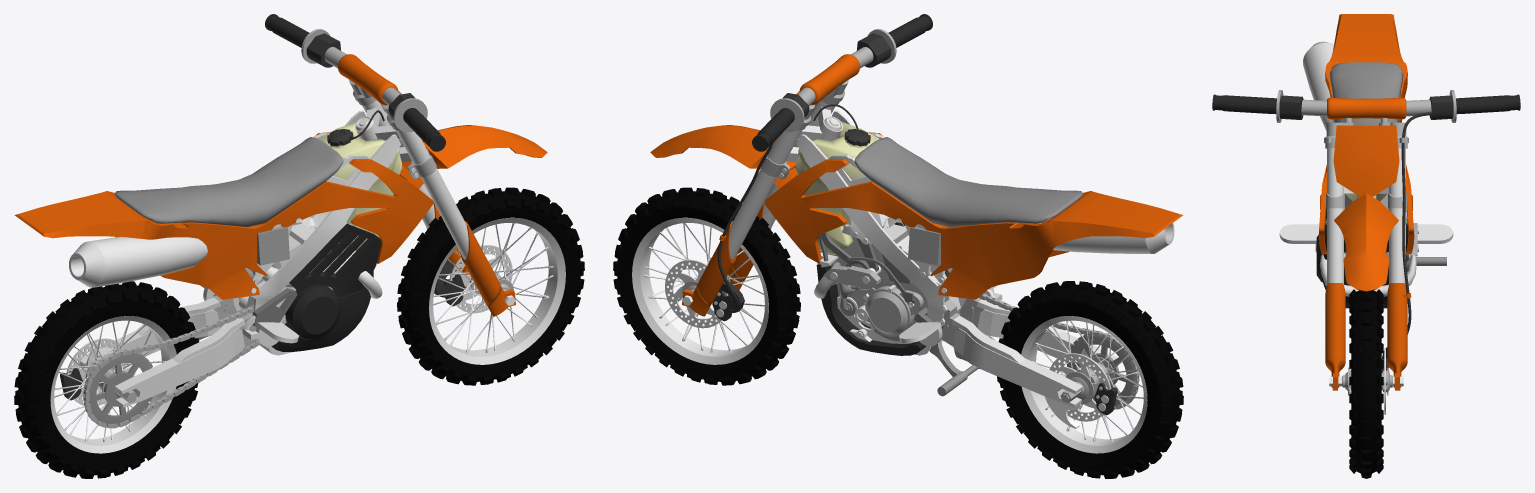
The model's file is moto.glb.
3 renders of one model, left to right at view 1: azimuth 30°, elevation 25°; view 2: azimuth 150°, elevation 25°; view 3: azimuth 270°, elevation 25°, orthographic. The views are drawn at different scales.
Visible parts, largest first — view 1: Object_101, wheel_f, wheel_r, Object_27, Object_33, Object_71, Object_73, Object_89, Object_31, Object_14, Object_4, Object_85 (+8 smaller); view 2: Object_101, wheel_f, wheel_r, Object_27, Object_33, Object_73, Object_31, Object_14, Object_4, Object_85, Object_67, Object_89 (+13 smaller); view 3: Object_101, wheel_f, Object_33, Object_14, Object_27, Object_22, Object_73, Object_89, Object_25, Object_23, Object_16, Object_20 (+3 smaller).
Part boxes in pixels (bbox=[...]): Object_101: bbox=[14, 54, 547, 299]; wheel_f: bbox=[404, 194, 581, 383]; wheel_r: bbox=[21, 287, 204, 476]; Object_27: bbox=[115, 137, 343, 226]; Object_33: bbox=[14, 187, 584, 478]; Object_71: bbox=[271, 223, 380, 351]; Object_73: bbox=[200, 110, 400, 355]; Object_89: bbox=[69, 236, 355, 287]; Object_31: bbox=[81, 297, 245, 407]; Object_14: bbox=[355, 100, 468, 259]; Object_4: bbox=[50, 316, 176, 453]; Object_85: bbox=[318, 121, 402, 250]; Object_101: bbox=[650, 54, 1183, 299]; wheel_f: bbox=[616, 194, 793, 383]; wheel_r: bbox=[999, 287, 1176, 476]; Object_27: bbox=[854, 137, 1082, 226]; Object_33: bbox=[613, 187, 1183, 478]; Object_73: bbox=[797, 110, 1002, 355]; Object_31: bbox=[952, 299, 1117, 407]; Object_14: bbox=[729, 100, 842, 259]; Object_4: bbox=[1021, 316, 1147, 453]; Object_85: bbox=[795, 121, 888, 254]; Object_67: bbox=[865, 286, 923, 336]; Object_89: bbox=[948, 218, 1174, 269]; Object_101: bbox=[1318, 14, 1414, 373]; wheel_f: bbox=[1325, 283, 1411, 478]; Object_33: bbox=[1349, 290, 1383, 467]; Object_14: bbox=[1327, 148, 1405, 284]; Object_27: bbox=[1329, 62, 1403, 125]; Object_22: bbox=[1212, 94, 1520, 114]; Object_73: bbox=[1279, 224, 1453, 252]; Object_89: bbox=[1303, 41, 1346, 254]; Object_25: bbox=[1279, 95, 1453, 119]; Object_23: bbox=[1276, 90, 1456, 122]; Object_16: bbox=[1401, 112, 1431, 329]; Object_20: bbox=[1324, 118, 1408, 148].
Bounding box in the file's own units: 2.15 × 1.27 × 1.1.
